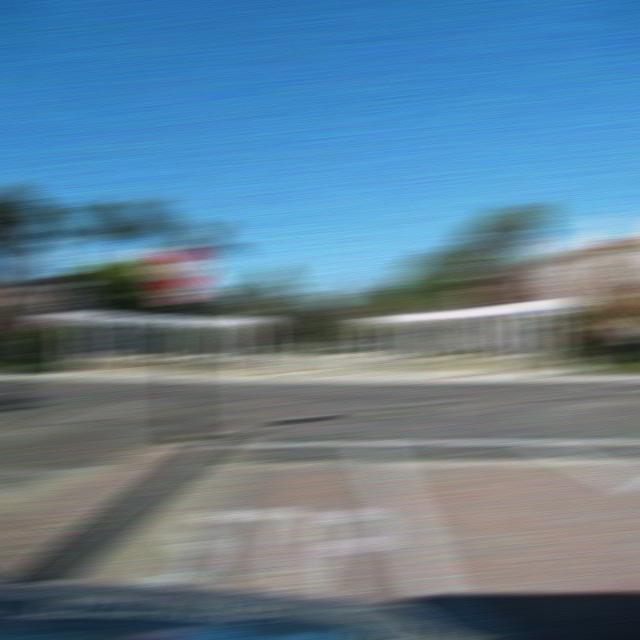stop_sign: (152, 246, 205, 293)
